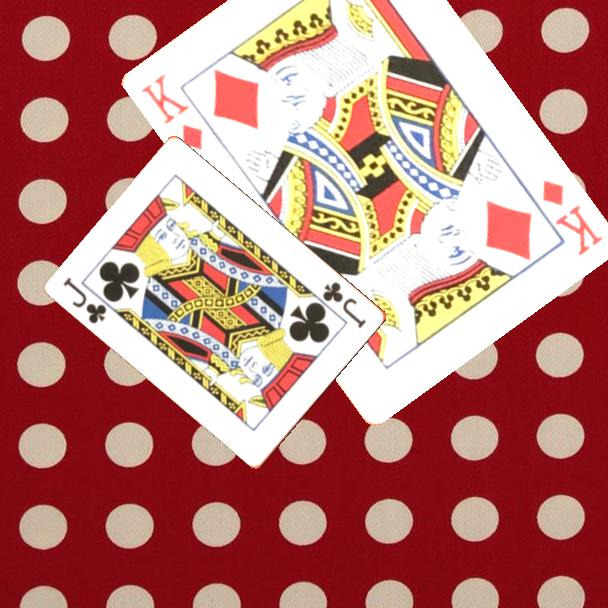c11: (60, 273, 110, 327), (319, 278, 369, 331)
d13: (136, 70, 206, 154), (537, 176, 605, 259)
